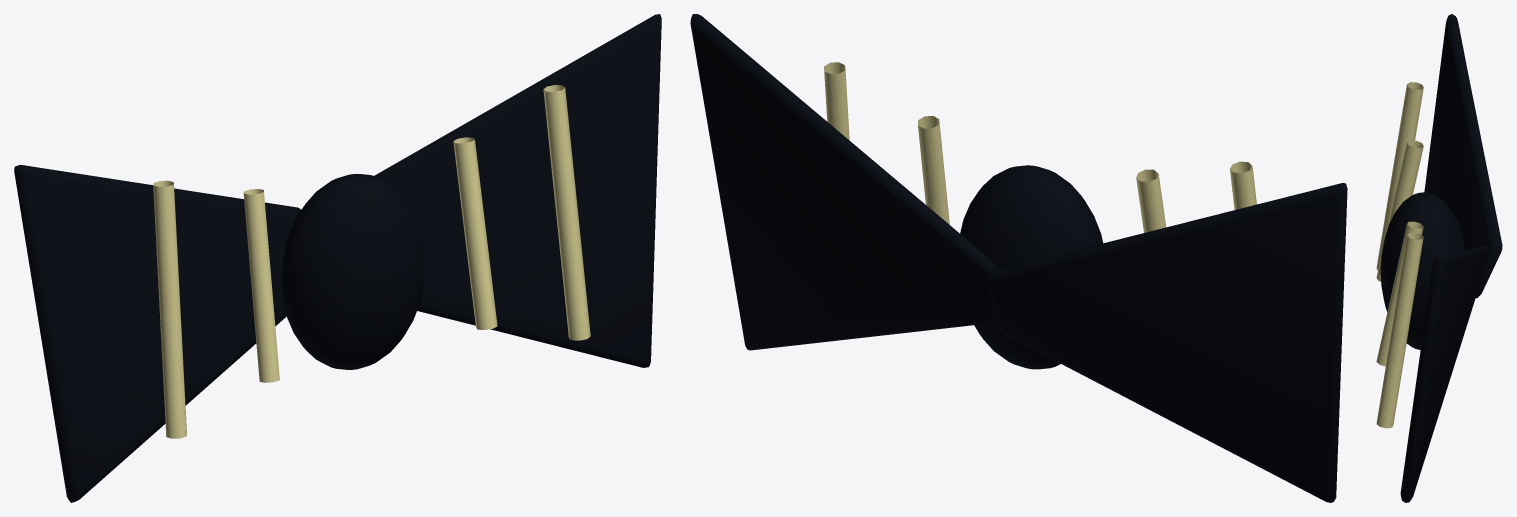
Rendered from accessory-academy-neck.glb.
3 renders of one model, left to right at view 1: azimuth 30°, elevation 25°; view 2: azimuth 150°, elevation 25°; view 3: azimuth 270°, elevation 25°, orthographic. The views are drawn at different scales.
Parts seen in each view (by area): view 1: Bow wing; view 2: Bow wing; view 3: Bow wing.
Part boxes in pixels (x1,y1,x2,y2): Bow wing: [14, 14, 661, 502]; Bow wing: [690, 14, 1347, 502]; Bow wing: [1376, 14, 1502, 502].
Size of the model in its own units: 0.1337 by 0.0665 by 0.029.
Materials: 2 (1 with a texture image).
